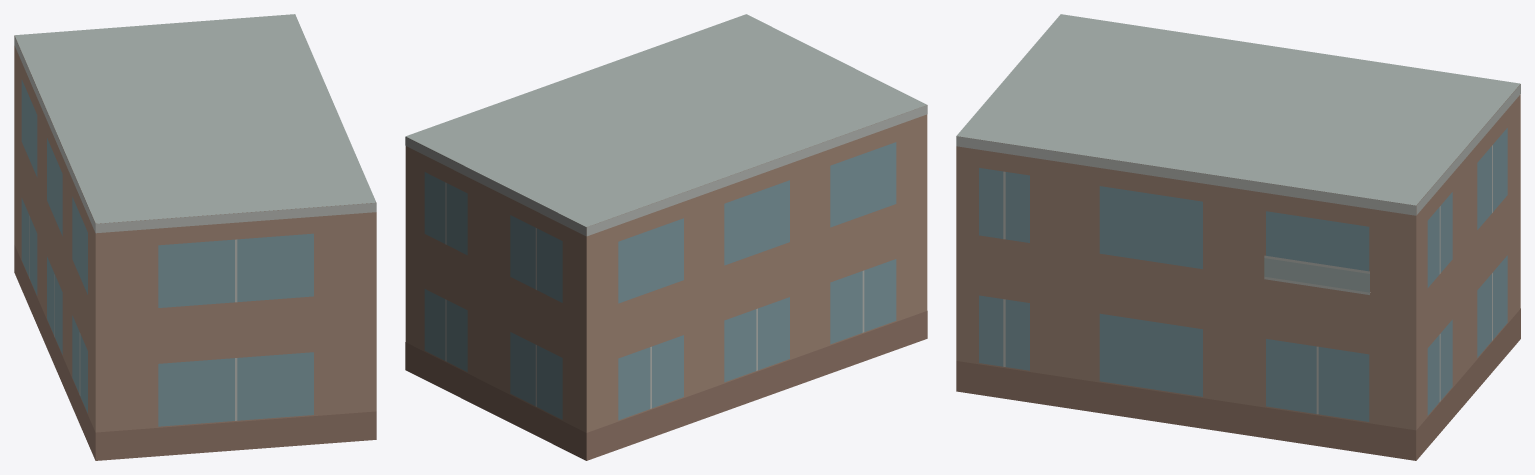
Rendered from survey-upis-32820549.glb.
3 views of the same model, side by side, from view 1: azimuth 30°, elevation 25°; view 2: azimuth 150°, elevation 25°; view 3: azimuth 270°, elevation 25° (orthographic). The views are drawn at different scales.
Visible parts, largest first — view 1: survey-upis-32820549.tmp; view 2: survey-upis-32820549.tmp; view 3: survey-upis-32820549.tmp.
Boxes of the visible parts, x1,y1,x2,y2 form: survey-upis-32820549.tmp: (14, 14, 376, 460); survey-upis-32820549.tmp: (405, 14, 927, 460); survey-upis-32820549.tmp: (956, 14, 1520, 460).
Size of the model in its own units: 9.83 by 6.1 by 12.24.
